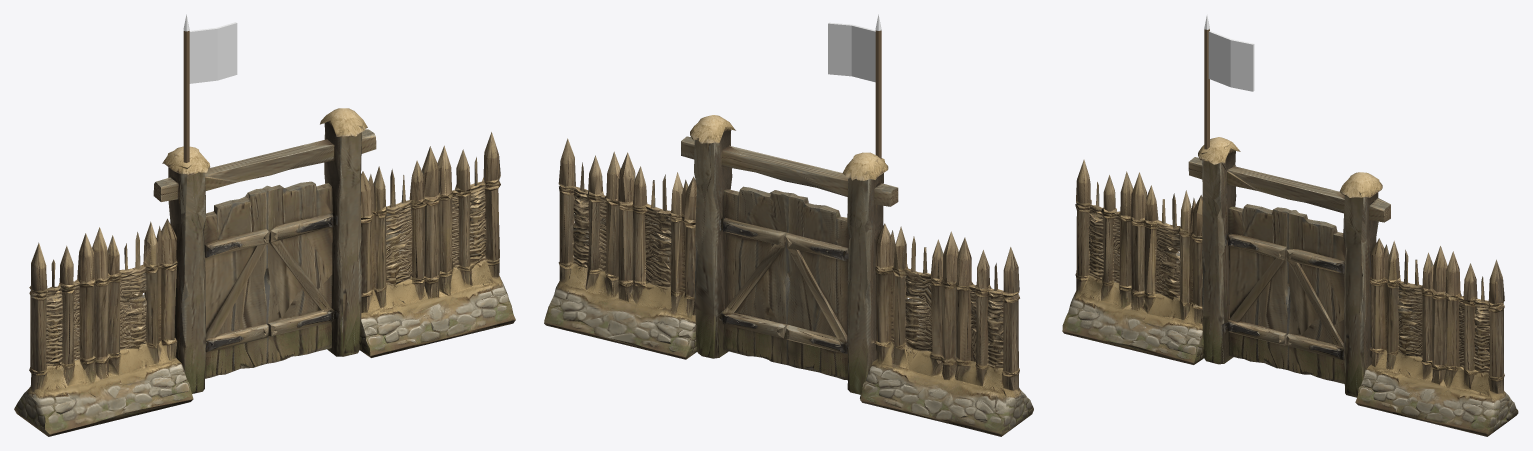
3 views of the same model, side by side, from view 1: azimuth 30°, elevation 25°; view 2: azimuth 150°, elevation 25°; view 3: azimuth 330°, elevation 25° (orthographic). The views are drawn at different scales.
Visible parts, largest first — view 1: palisade_gate, Team_banner; view 2: palisade_gate, Team_banner; view 3: palisade_gate, Team_banner.
Part boxes in pixels (x1,y1,x2,y2): palisade_gate: [14, 108, 515, 436]; Team_banner: [183, 14, 237, 162]; palisade_gate: [544, 115, 1033, 436]; Team_banner: [828, 14, 881, 158]; palisade_gate: [1062, 137, 1518, 436]; Team_banner: [1204, 14, 1254, 149].
Size of the model in its own units: 1.9 by 1.46 by 0.2504.
Materials: 3 (1 with a texture image).
